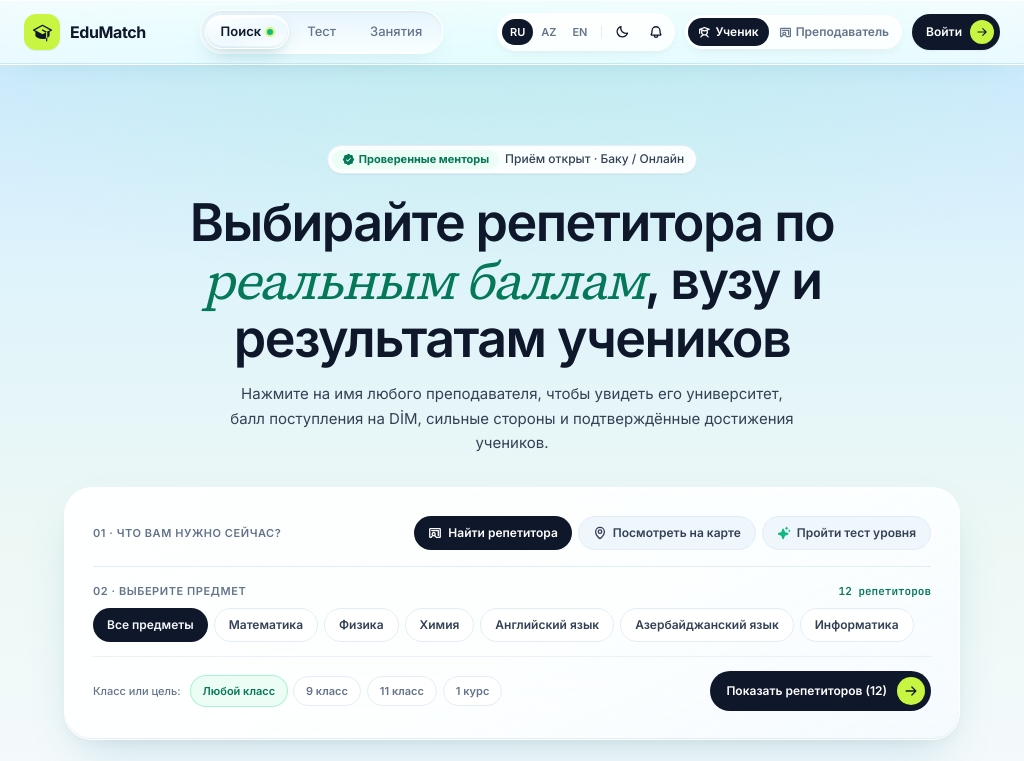
Test: EduMatch Tier-1 UI Integration › switches UI language (RU -> AZ -> EN) and toggles light/dark theme cleanly
The width and height of the screenshot is (1024, 761).
Later steps or results of the test are not shown.
Click the button "az": {"x": 549, "y": 32} [533, 19, 564, 45]
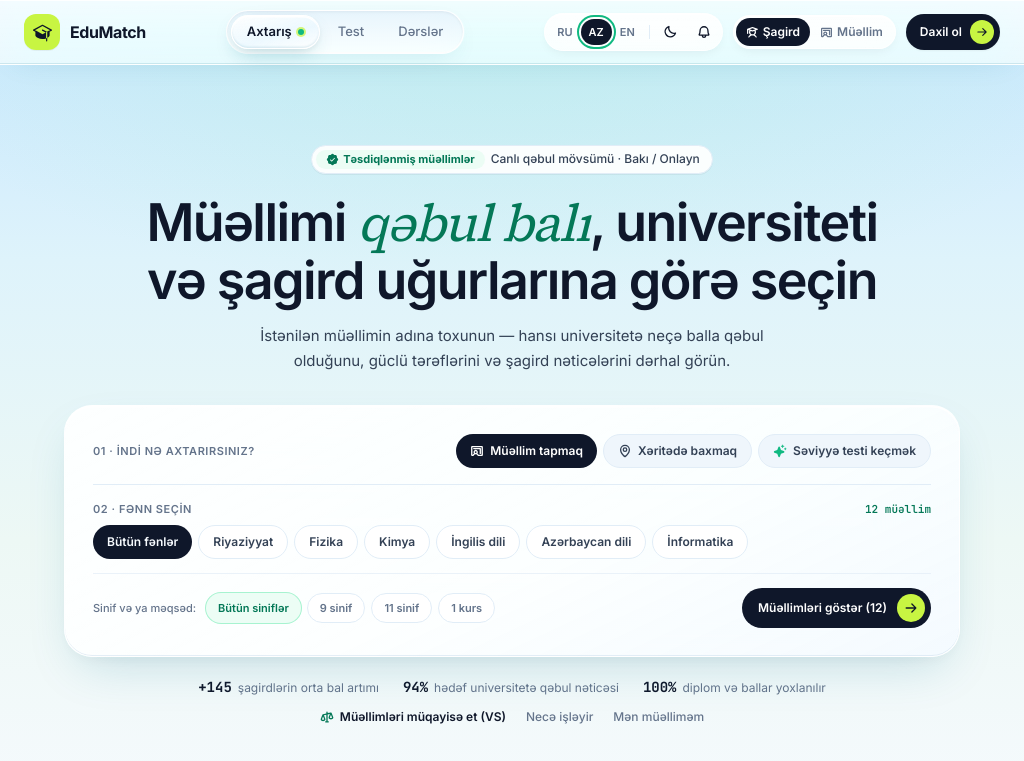
Now the heading "Müəllimi qəbul balı" is shown, box [128, 194, 896, 310]
Click the button "en": {"x": 627, "y": 32} [612, 19, 643, 45]
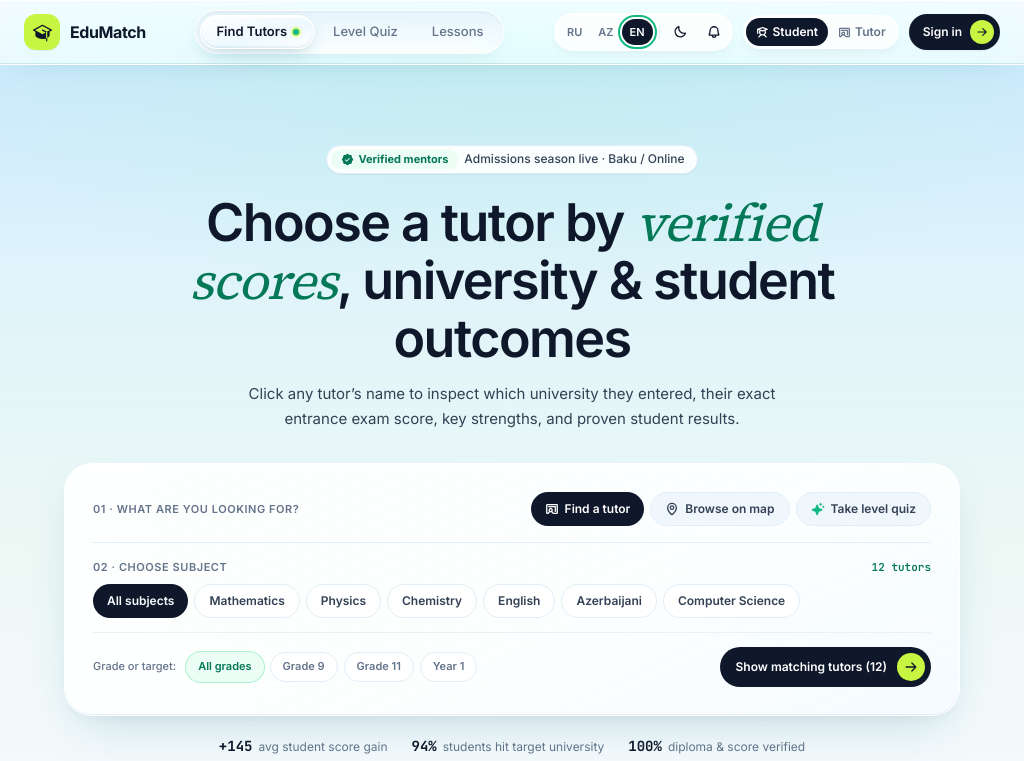
Now the heading "Choose a tutor by verified scores" is shown, box [190, 187, 834, 370]
